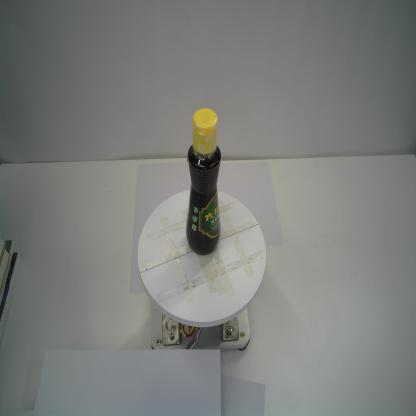Seasoner: (184, 105, 224, 259)
